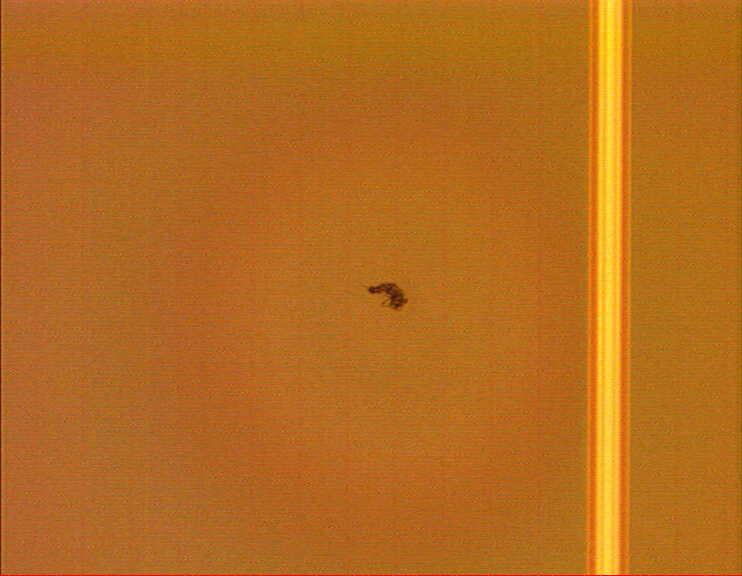PIQ PARTICLE: (362, 278, 411, 314)
